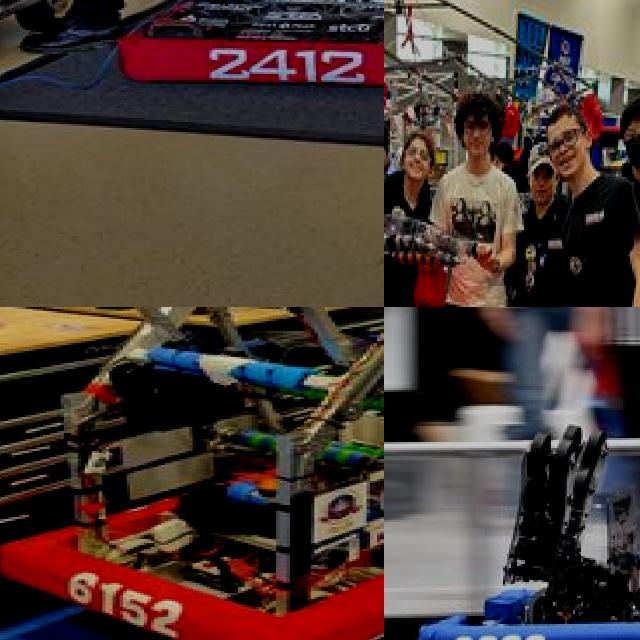FRC-Robots: (38, 307, 384, 640), (402, 307, 640, 640), (107, 0, 384, 95)
